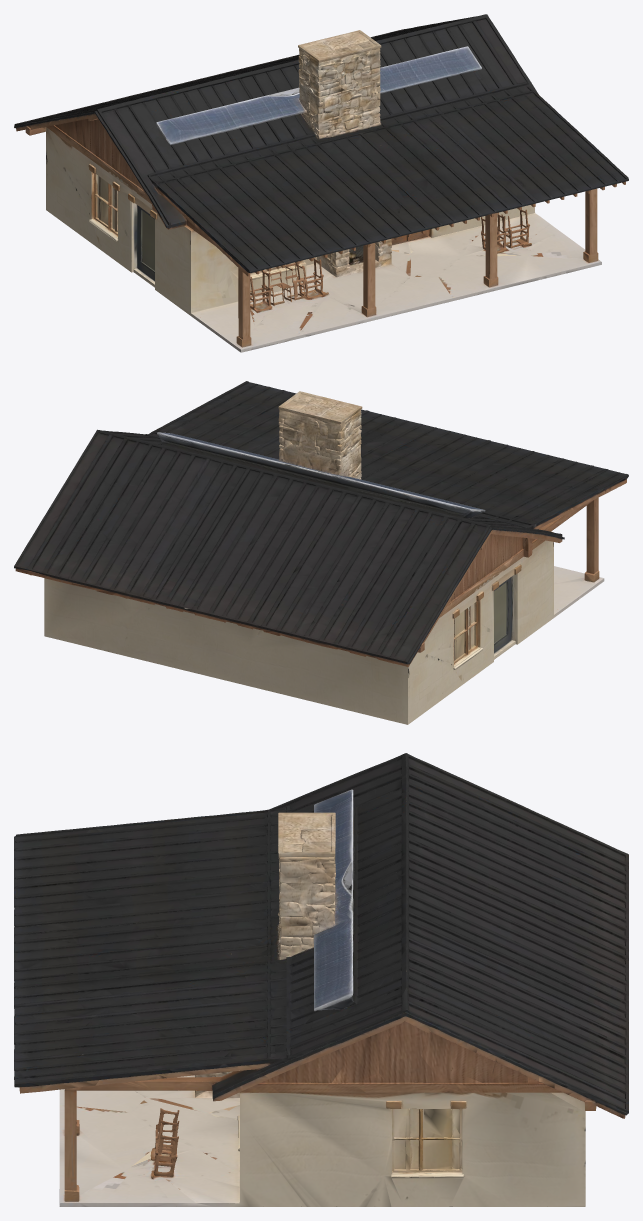
File: comfort-zone.glb
The picture shows the model from 3 angles, top to bottom: view 1: azimuth 30°, elevation 25°; view 2: azimuth 150°, elevation 25°; view 3: azimuth 270°, elevation 25°; orthographic projection. The views are drawn at different scales.
Visible parts, largest first — view 1: model; view 2: model; view 3: model.
Part boxes in pixels (left/top/right/bottom): model: left=14, top=14, right=628, bottom=352; model: left=14, top=381, right=628, bottom=724; model: left=14, top=753, right=628, bottom=1206.
Bounding box in the file's own units: 1.89 × 0.8886 × 1.89.
1 material, 1 textured.
